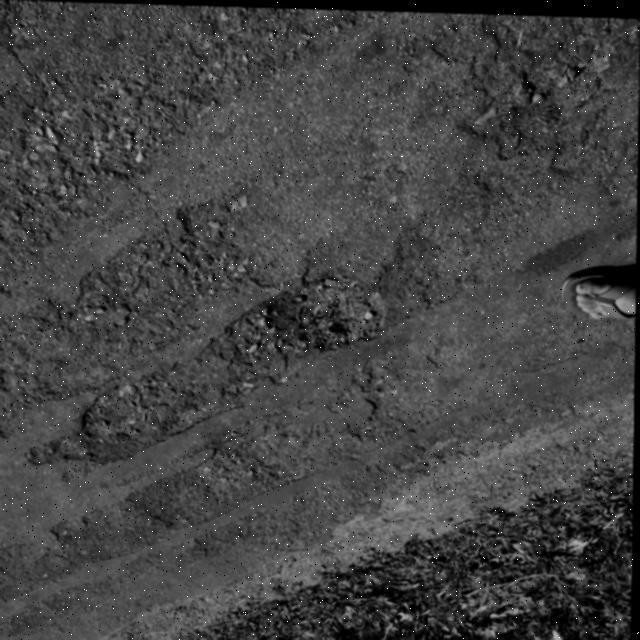pothole: (238, 274, 386, 387), (39, 362, 200, 462)
